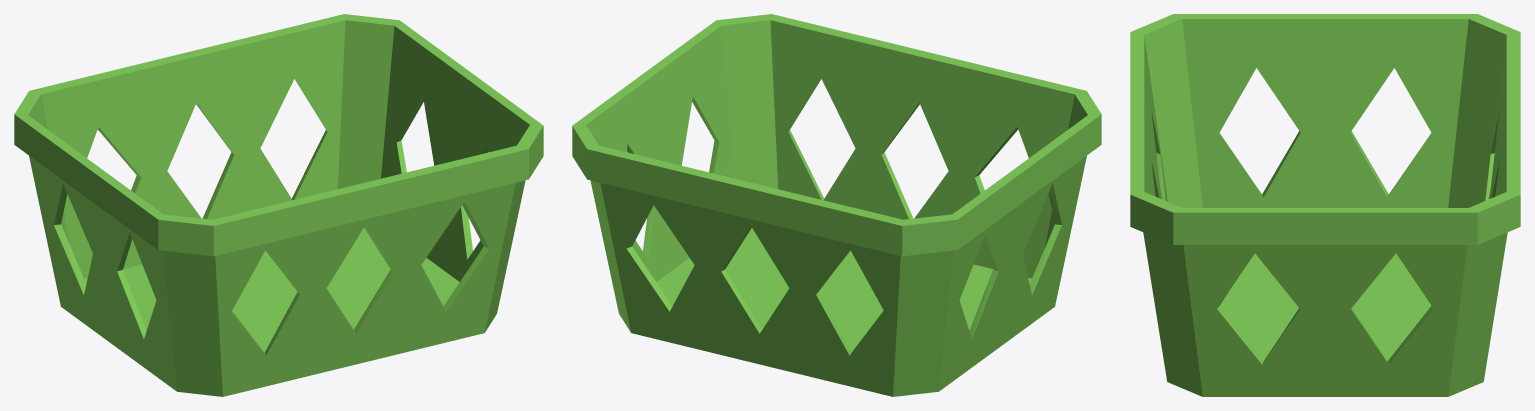
File: SM_Cook_Basket_Green_01.obj
The picture shows the model from 3 angles, left to right: view 1: azimuth 30°, elevation 25°; view 2: azimuth 150°, elevation 25°; view 3: azimuth 270°, elevation 25°; orthographic projection. The views are drawn at different scales.
Parts seen in each view (by area): view 1: SM_Cook_Basket_Green_01; view 2: SM_Cook_Basket_Green_01; view 3: SM_Cook_Basket_Green_01.
Boxes of the visible parts, bbox=[...] form: SM_Cook_Basket_Green_01: bbox=[14, 14, 543, 396]; SM_Cook_Basket_Green_01: bbox=[572, 14, 1101, 396]; SM_Cook_Basket_Green_01: bbox=[1130, 14, 1520, 396].
Size of the model in its own units: 0.318 by 0.15 by 0.2638.
1 material, 1 textured.
